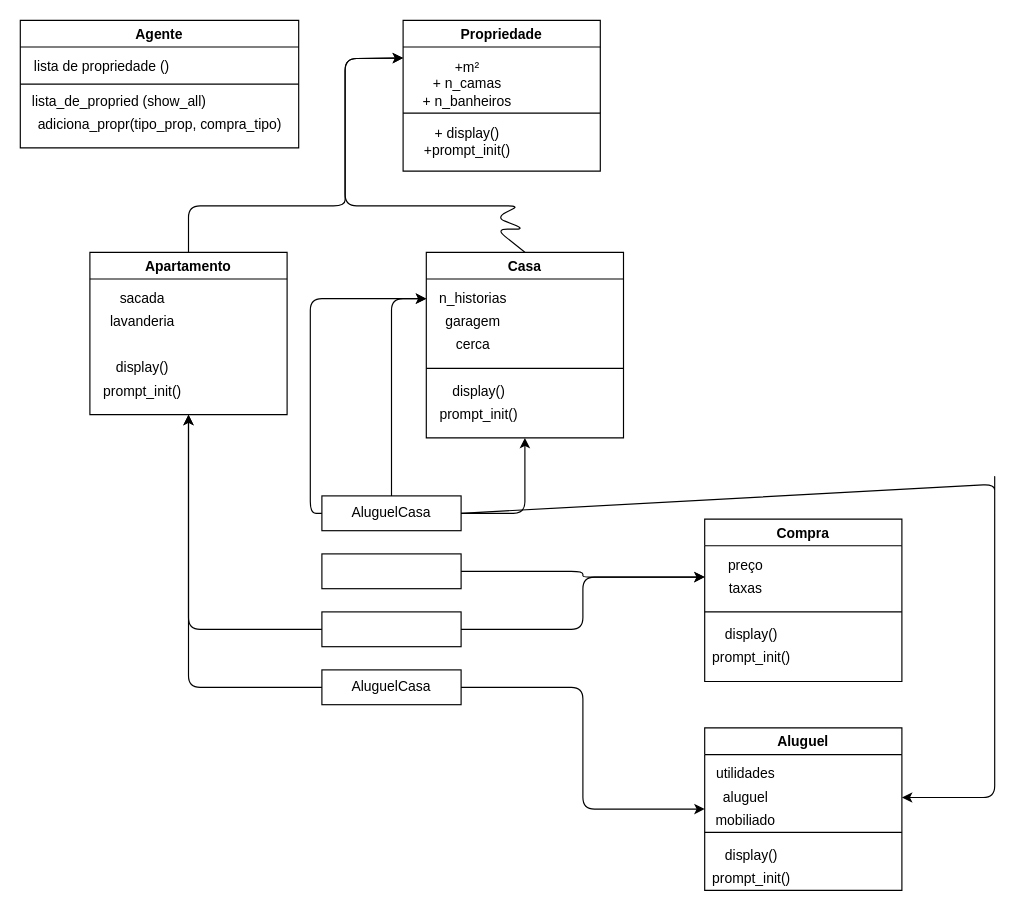
This 1024x911 diagram has some shape labels left out. Here are the shapes that lost their labels. From the top down, the centre of each, then its label:
At (x=391, y=571): "CompraCasa".
At (x=391, y=629): "AluguelApart".
